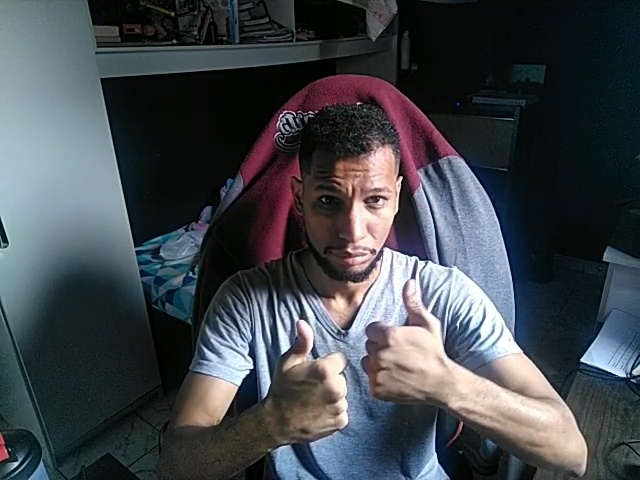sim: (259, 312, 355, 446), (359, 275, 447, 408)
